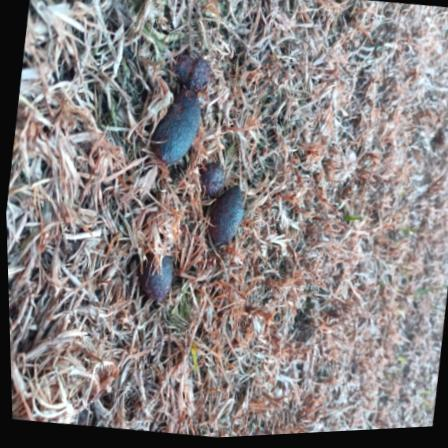dog-poop: (155, 47, 212, 170), (188, 169, 250, 264), (131, 245, 180, 307)
